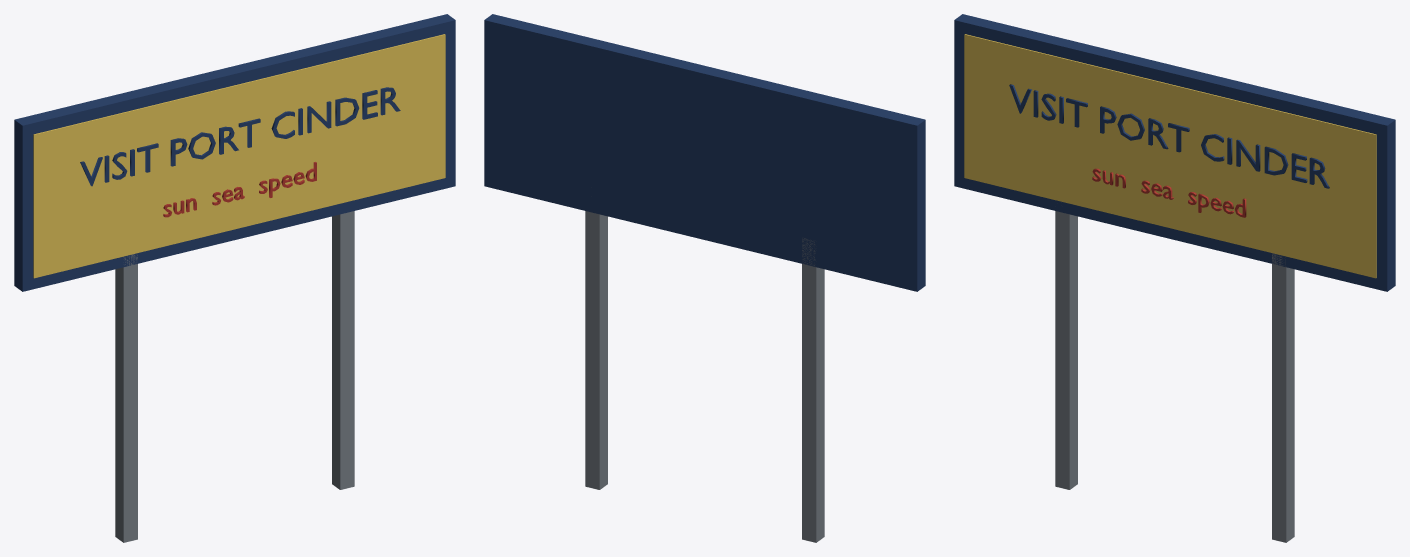
The model's file is billboard.glb.
The picture shows the model from 3 angles, left to right: view 1: azimuth 30°, elevation 25°; view 2: azimuth 150°, elevation 25°; view 3: azimuth 330°, elevation 25°; orthographic projection.
Visible parts, largest first — view 1: billboard_Body, billboard_Sign, billboard_Sign2; view 2: billboard_Body; view 3: billboard_Body, billboard_Sign, billboard_Sign2.
Boxes of the visible parts, x1,y1,x2,y2 form: billboard_Body: (14, 14, 455, 542); billboard_Sign: (80, 87, 400, 186); billboard_Sign2: (163, 162, 316, 217); billboard_Body: (484, 14, 925, 542); billboard_Body: (954, 14, 1395, 542); billboard_Sign: (1009, 84, 1329, 188); billboard_Sign2: (1092, 168, 1246, 217).
Bounding box in the file's own units: 12 × 11.7 × 0.49.
